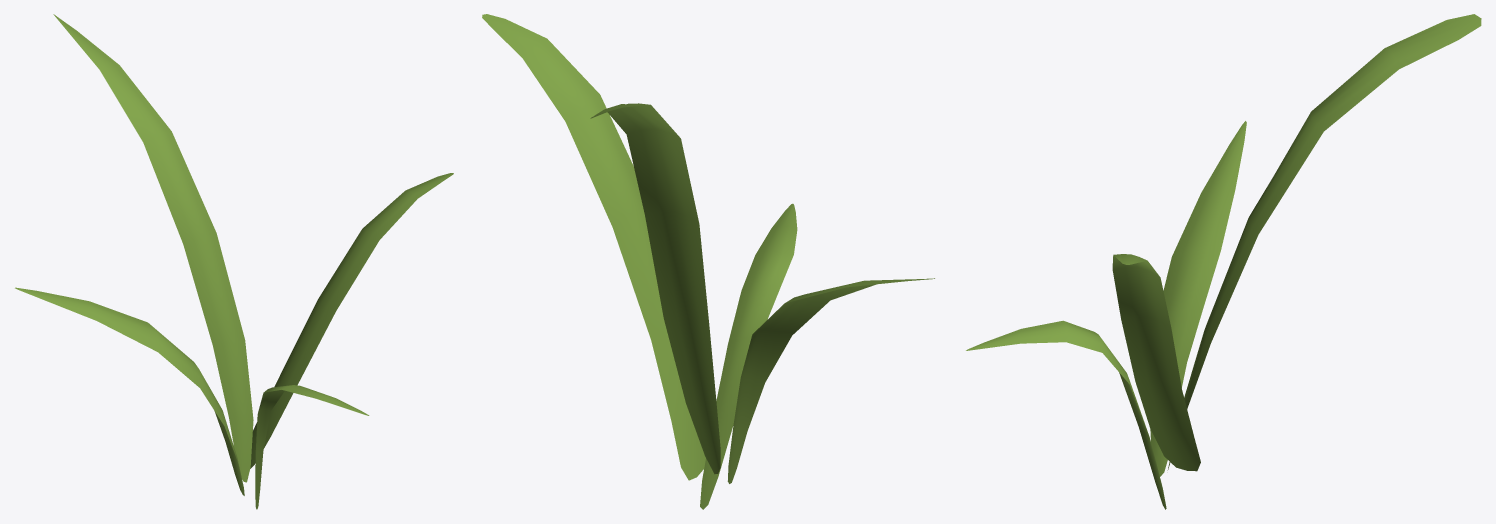
The model's file is object_GEO-leaf_grass-long_004.glb.
3 views of the same model, side by side, from view 1: azimuth 30°, elevation 25°; view 2: azimuth 150°, elevation 25°; view 3: azimuth 270°, elevation 25° (orthographic). The views are drawn at different scales.
Parts seen in each view (by area): view 1: GEO-leaf_grass-long.004; view 2: GEO-leaf_grass-long.004; view 3: GEO-leaf_grass-long.004.
Part boxes in pixels (x1,y1,x2,y2): GEO-leaf_grass-long.004: (15,14,453,509); GEO-leaf_grass-long.004: (482,14,934,509); GEO-leaf_grass-long.004: (966,14,1481,509).
Size of the model in its own units: 0.1209 by 0.1227 by 0.1247.
